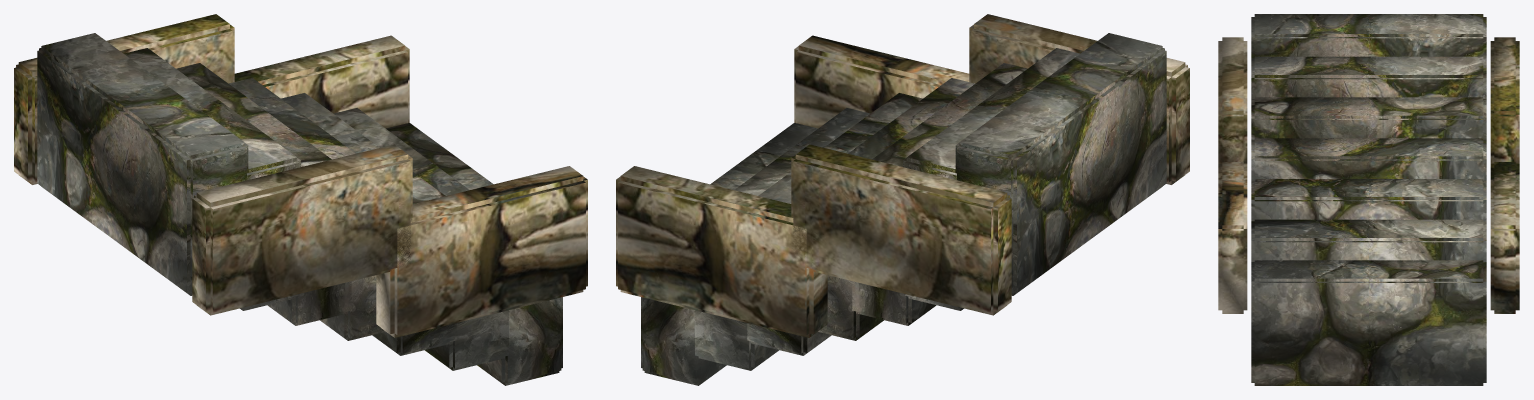
File: edo_river_stairs.glb
3 views of the same model, side by side, from view 1: azimuth 30°, elevation 25°; view 2: azimuth 150°, elevation 25°; view 3: azimuth 270°, elevation 25° (orthographic). The views are drawn at different scales.
Visible parts, largest first — view 1: river_stairs_cheeks, river_stairs_treads; view 2: river_stairs_cheeks, river_stairs_treads; view 3: river_stairs_treads, river_stairs_cheeks.
Part boxes in pixels (box(x1,y1,x2,y2)): river_stairs_cheeks: box(14, 14, 587, 337); river_stairs_treads: box(37, 33, 562, 385); river_stairs_cheeks: box(616, 14, 1189, 337); river_stairs_treads: box(641, 33, 1166, 385); river_stairs_treads: box(1251, 14, 1486, 385); river_stairs_cheeks: box(1218, 37, 1519, 313).
Size of the model in its own units: 2.55 by 1.96 by 2.28.
2 materials, 2 textured.
